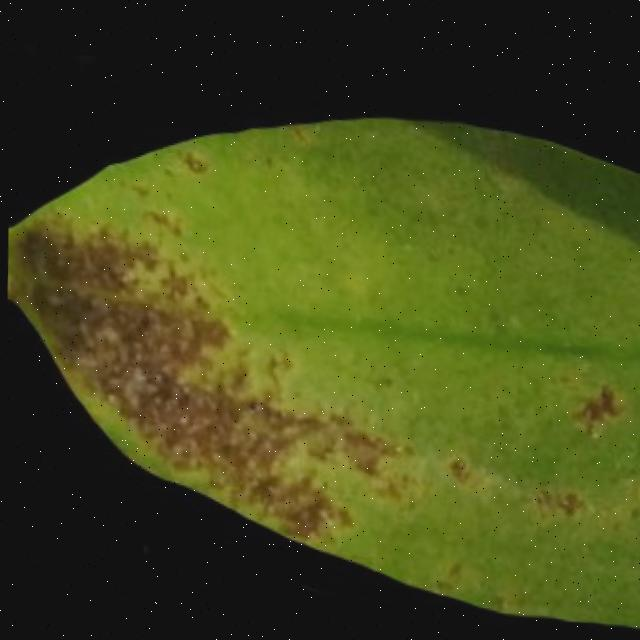mite: (171, 142, 211, 178), (428, 552, 461, 590), (553, 482, 582, 513), (177, 146, 205, 173), (442, 449, 467, 479)
spots: (5, 89, 640, 628)
sunburn: (7, 194, 423, 549)
